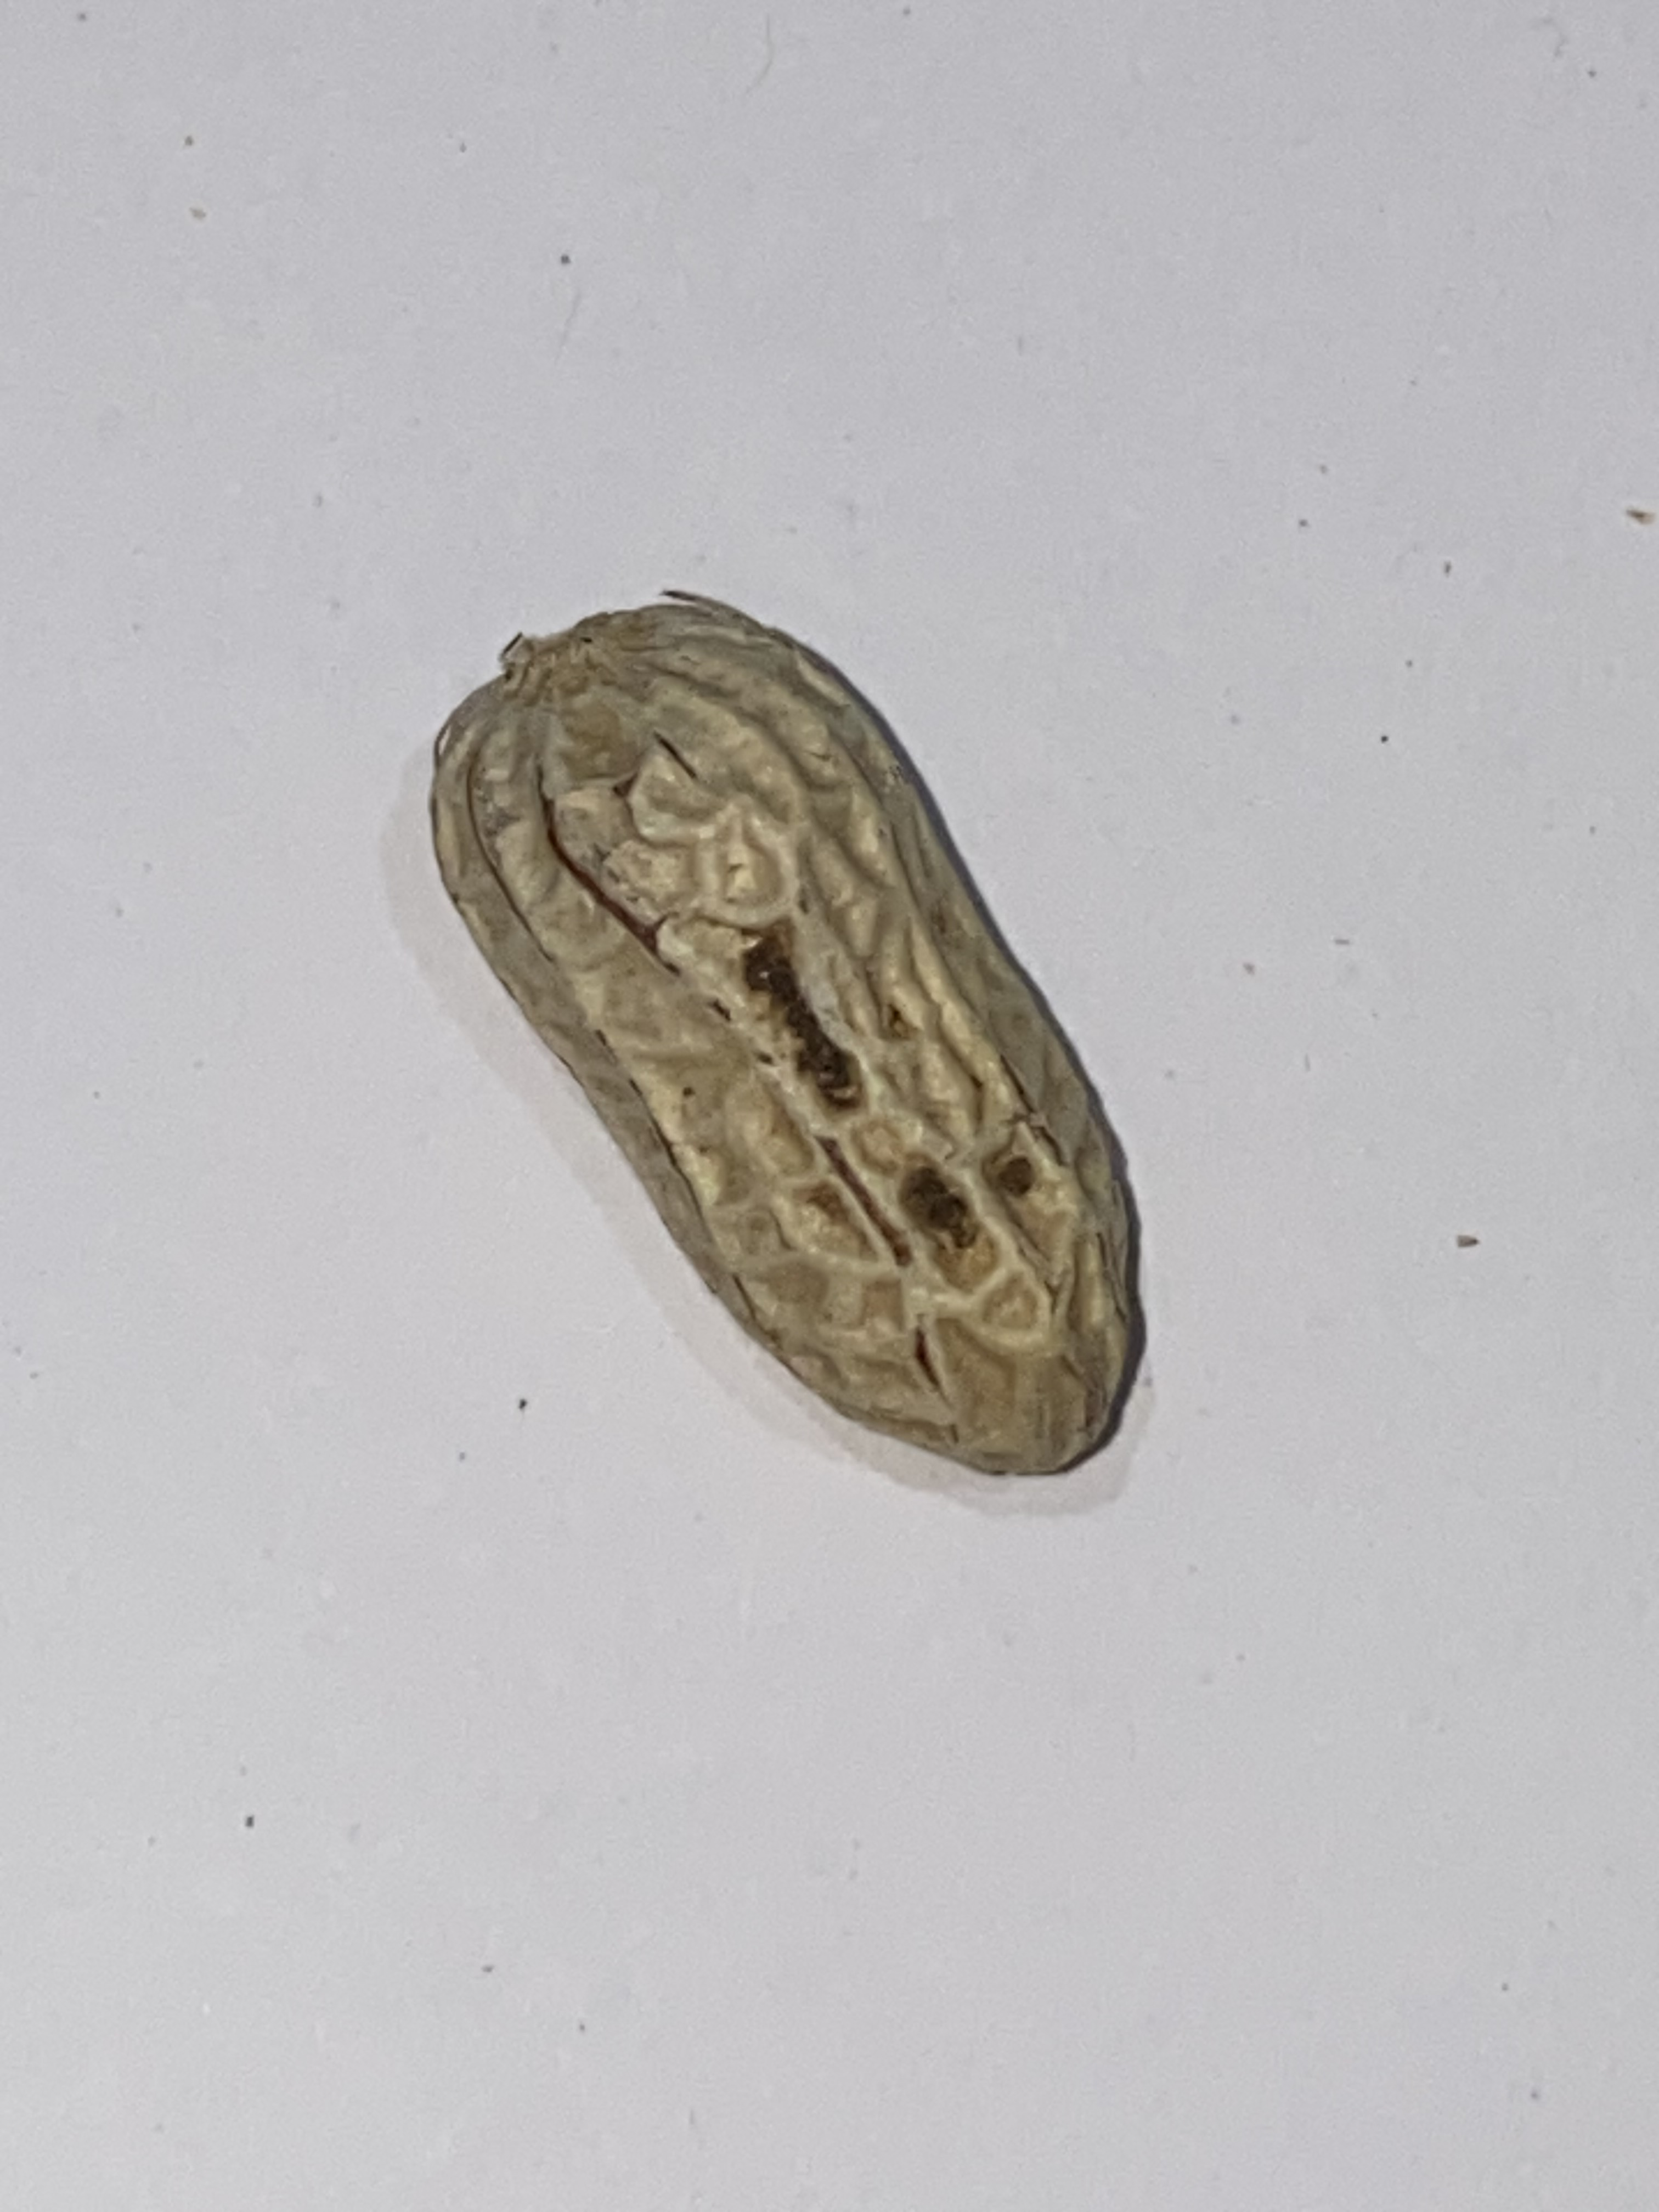kacang2: (403, 592, 1222, 1493)
